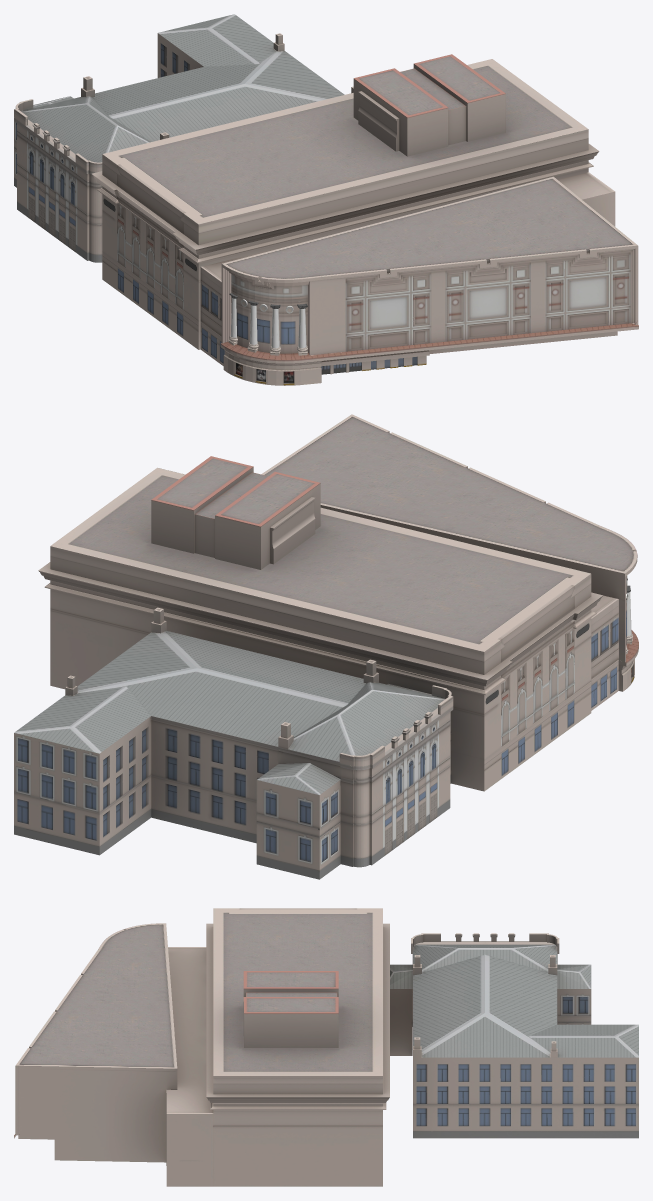
3 renders of one model, top to bottom at view 1: azimuth 30°, elevation 25°; view 2: azimuth 150°, elevation 25°; view 3: azimuth 270°, elevation 25°, orthographic. The views are drawn at different scales.
Visible parts, largest first — view 1: Untitled; view 2: Untitled; view 3: Untitled.
Part boxes in pixels (<box>): Untitled: <box>14,14,638,385</box>; Untitled: <box>14,414,638,879</box>; Untitled: <box>14,908,638,1186</box>.
Size of the model in its own units: 31.96 by 12.45 by 48.59.
Materials: 1 (1 with a texture image).
